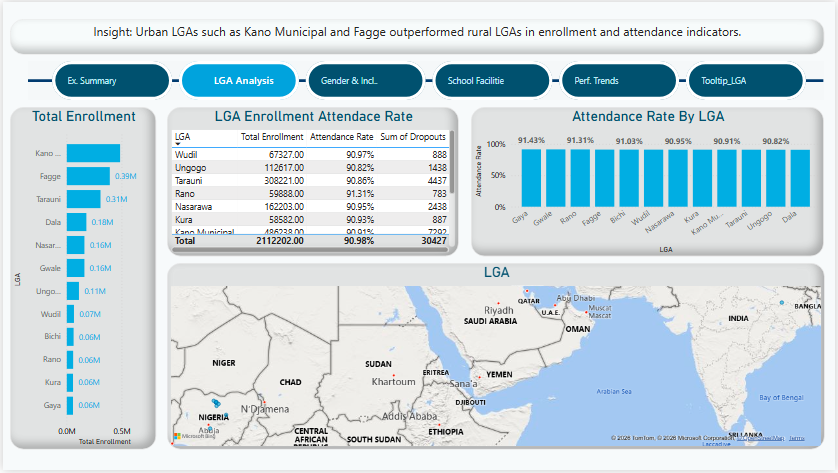

The page's visual inventory and layout, read from the dashboard file:
{"tool":"powerbi","page":{"name":"LGA Analysis","canvas":[1280,720],"ordinal":1},"visuals":[{"type":"clusteredBarChart","title":"Total Enrollment","fields":{"Category":["Raw_Data.LGA"],"Y":["Raw_Data.Total Enrollment"]},"box":[10.1,161.3,224.6,527],"z":0},{"type":"clusteredColumnChart","title":"Attendance Rate By LGA","fields":{"Category":["Raw_Data.LGA"],"Y":["Raw_Data.Attendance Rate"]},"box":[720,161.3,542.9,230.4],"z":1000},{"type":"map","fields":{"Category":["Raw_Data.LGA"]},"box":[252,401.8,1012.3,286.6],"z":2000},{"type":"tableEx","title":"LGA Enrollment Attendace Rate","fields":{"Values":["Raw_Data.LGA","Raw_Data.Total Enrollment","Raw_Data.Attendance Rate","Sum(Raw_Data.Dropouts)"]},"box":[252,161.3,449.3,230.4],"z":3000},{"type":"textbox","box":[10.1,25.9,1252.8,54.7],"z":4000},{"type":"shape","box":[38.9,90.7,1224,60.5],"z":5000},{"type":"pageNavigator","box":[74.9,90.3,1160.6,60.5],"z":6000}]}

Visuals, with their boxes in screenshot pixels (x1, y1, x2, y2), scaled from the page's 1280x720 canvas onto the 838x473 screenshot:
"Total Enrollment" clusteredBarChart: 7/106/154/452
"Attendance Rate By LGA" clusteredColumnChart: 471/106/827/257
map - Raw_Data.LGA: 165/264/828/452
"LGA Enrollment Attendace Rate" tableEx: 165/106/459/257
textbox: 7/17/827/53
shape: 25/60/827/99
pageNavigator: 49/59/809/99
